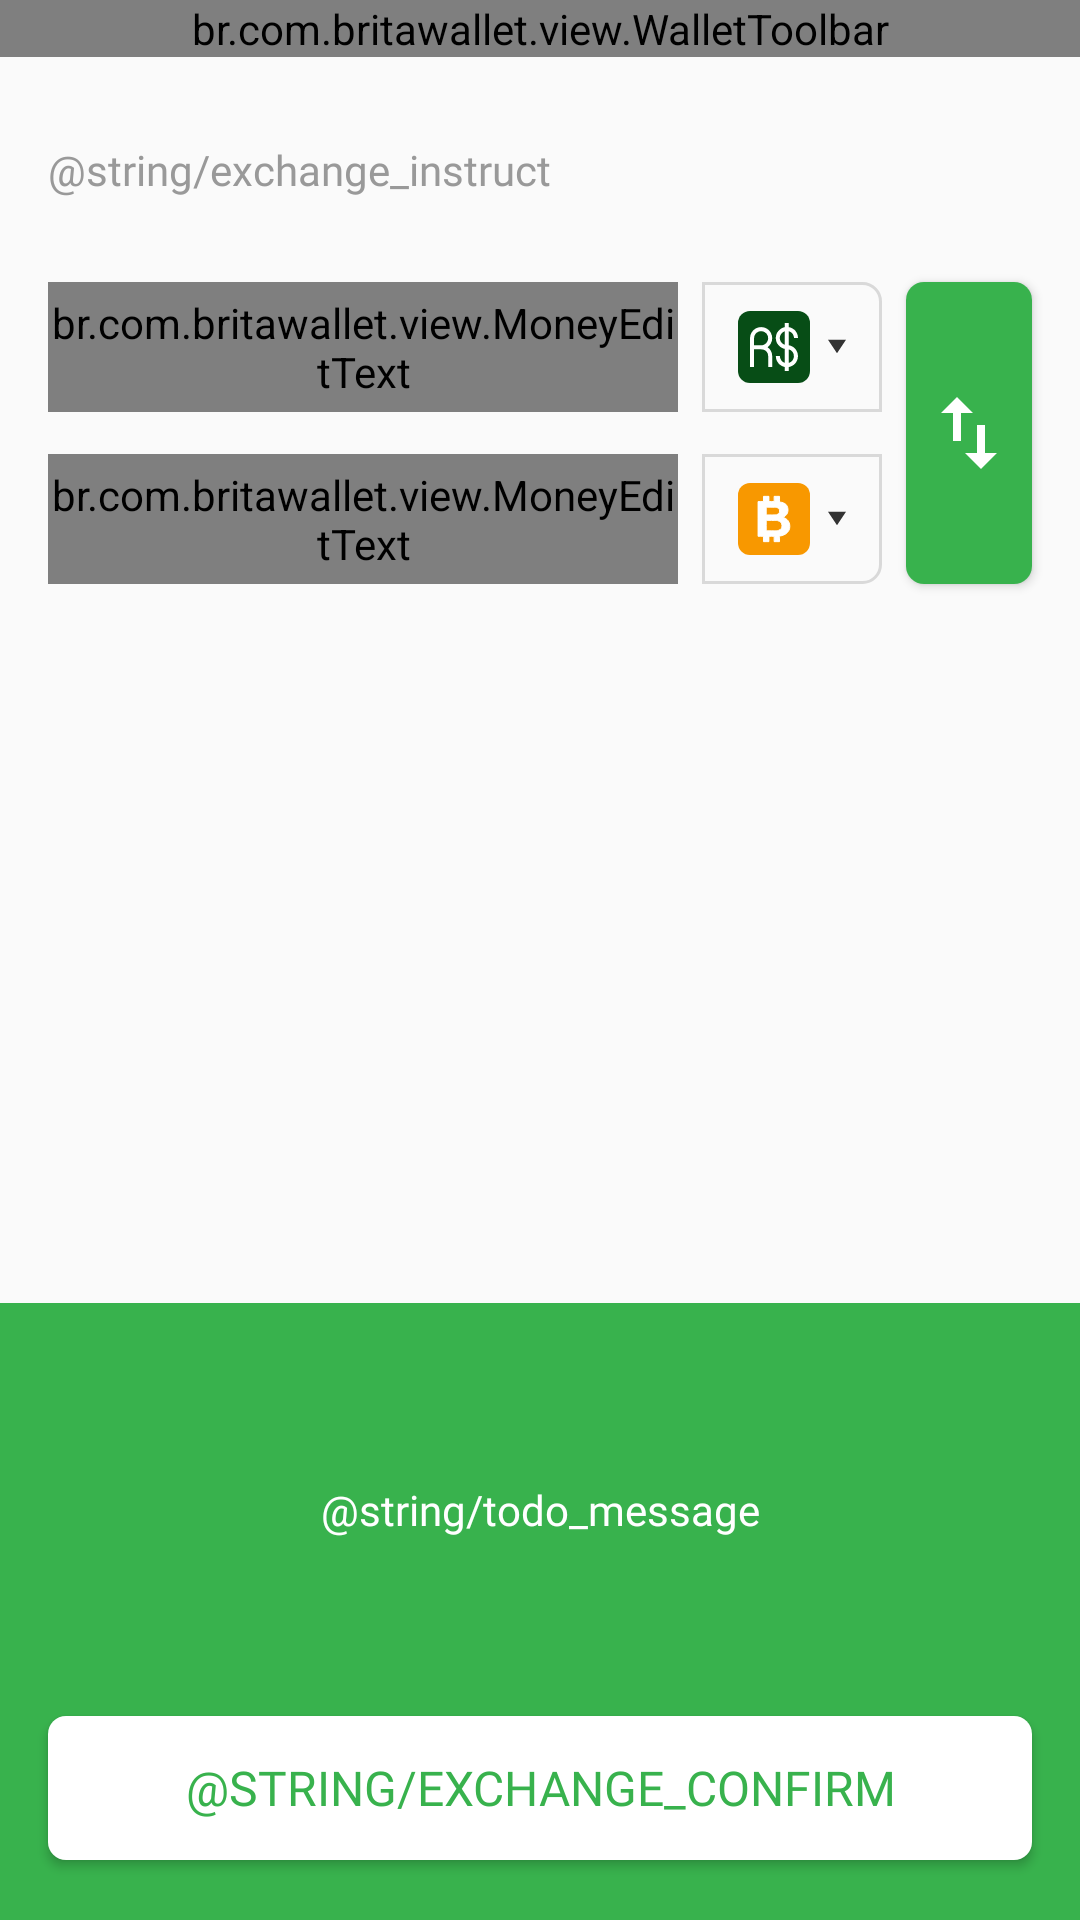

Locate icon controls on the screen. Image size 1080w x 1920h, boxes as (x1, y1, x2, y2).
currency brl: (738, 311, 810, 383)
exchange switch: (906, 282, 1032, 584)
